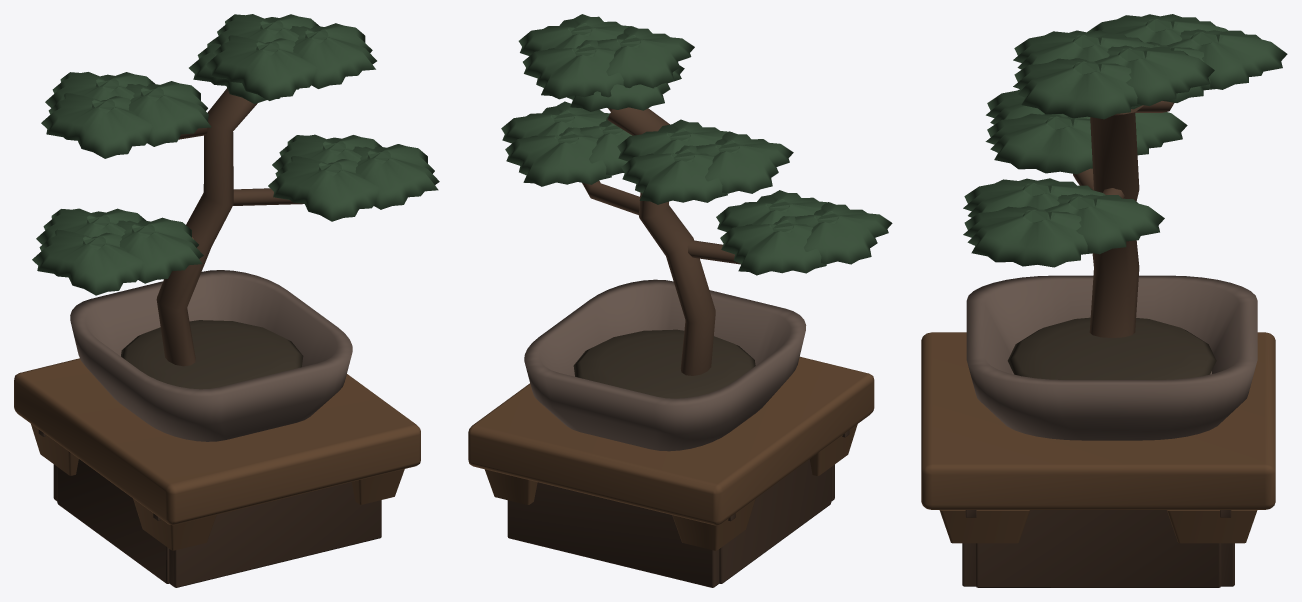
Rendered from kominka-bonsai-01.glb.
3 renders of one model, left to right at view 1: azimuth 30°, elevation 25°; view 2: azimuth 150°, elevation 25°; view 3: azimuth 270°, elevation 25°, orthographic. The views are drawn at different scales.
Visible parts, largest first — view 1: kominka-bonsai-01; view 2: kominka-bonsai-01; view 3: kominka-bonsai-01.
Boxes of the visible parts, box(x1,y1,x2,y2) form: kominka-bonsai-01: box(14, 14, 439, 587); kominka-bonsai-01: box(468, 14, 892, 587); kominka-bonsai-01: box(921, 14, 1287, 587).
Size of the model in its own units: 0.6 by 0.7 by 0.45.
